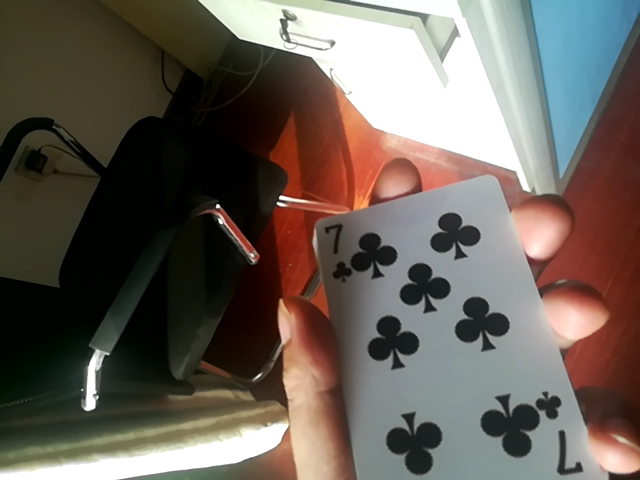mh 7: (343, 159, 613, 480)
